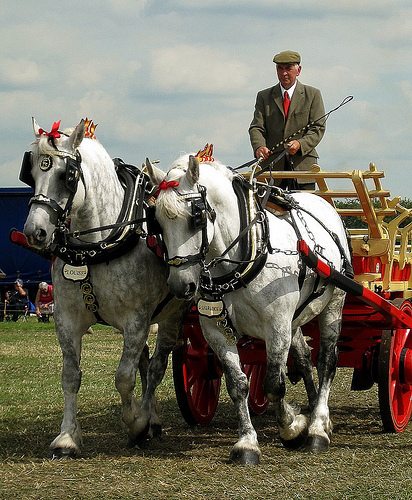horse: (146, 145, 354, 465), (14, 116, 197, 458)
